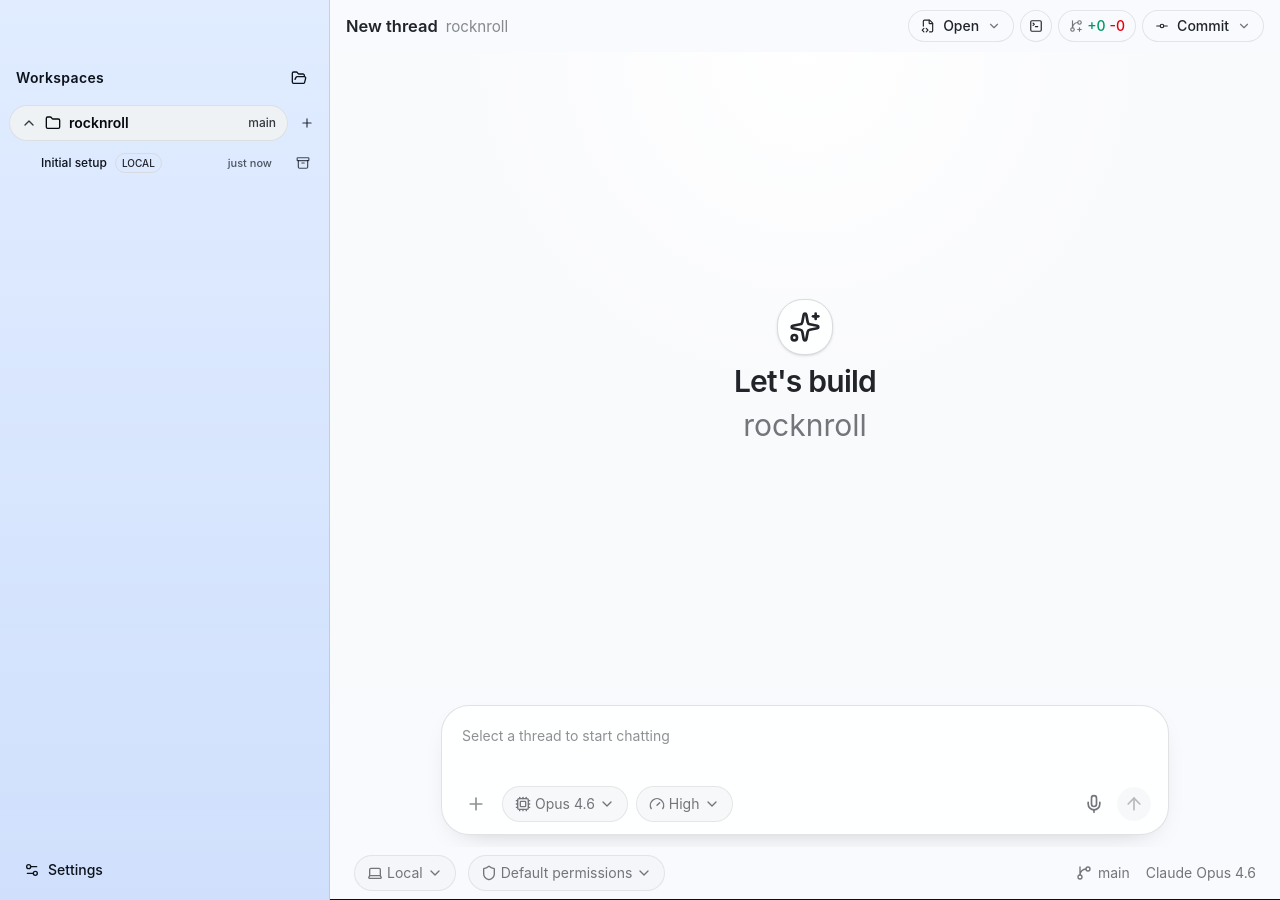
Test: app shell integration › archives a thread from the thread row
The width and height of the screenshot is (1280, 900).
Click the button named "Create thread in rocknroll" at (307, 123), box [293, 109, 321, 137]
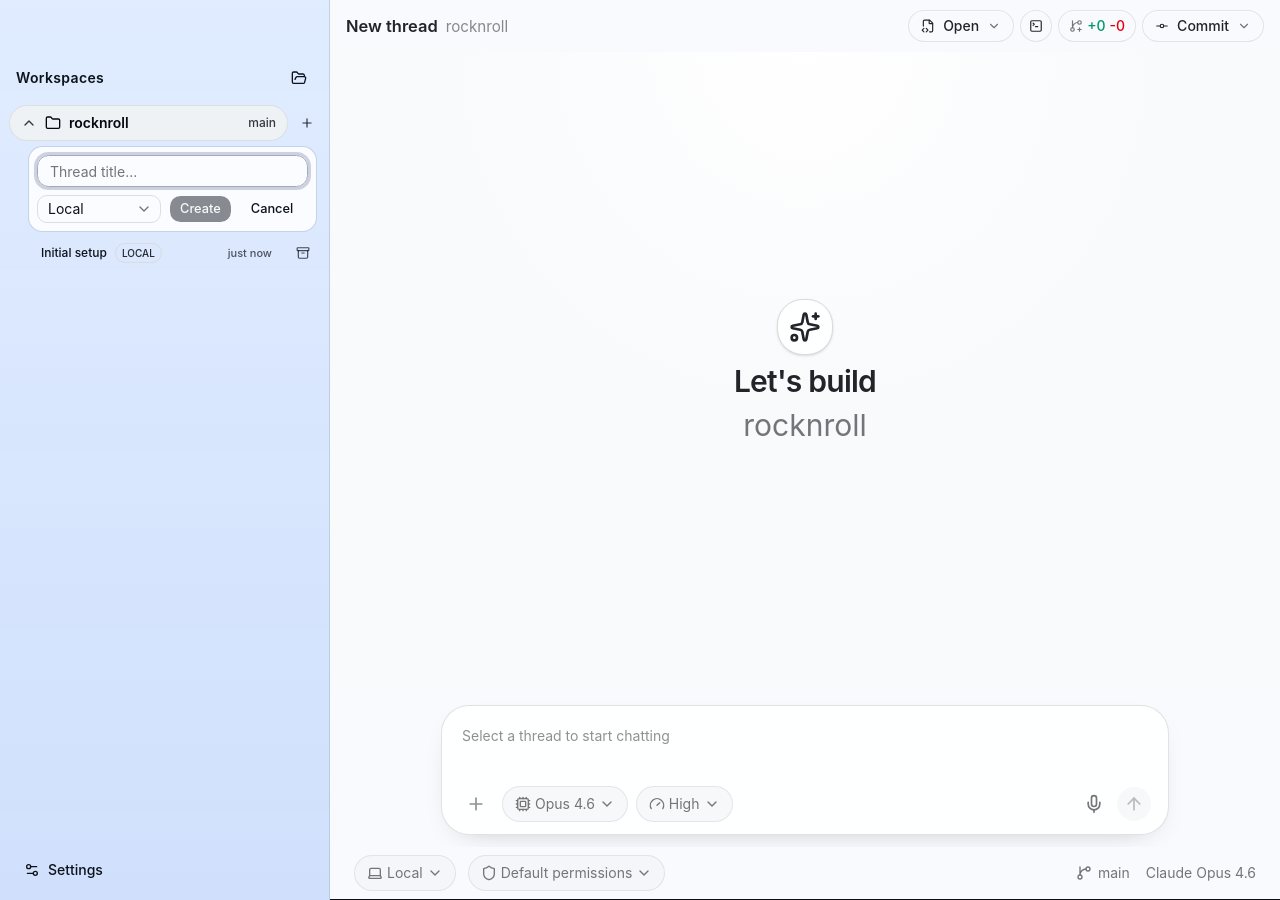
Type "Archive me" into the field with placeholder "Thread title..." at (172, 171), box [37, 155, 308, 187]
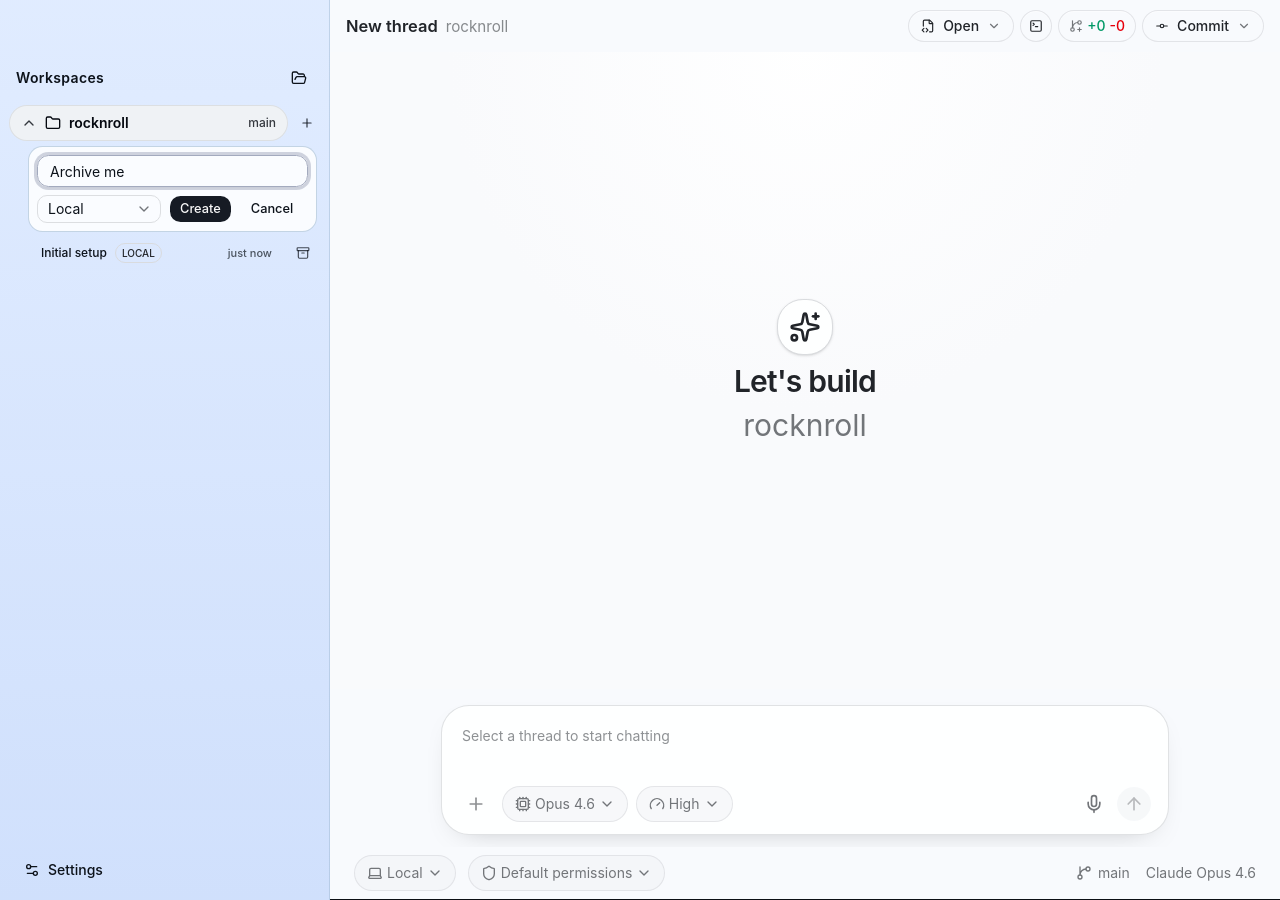
Press Enter
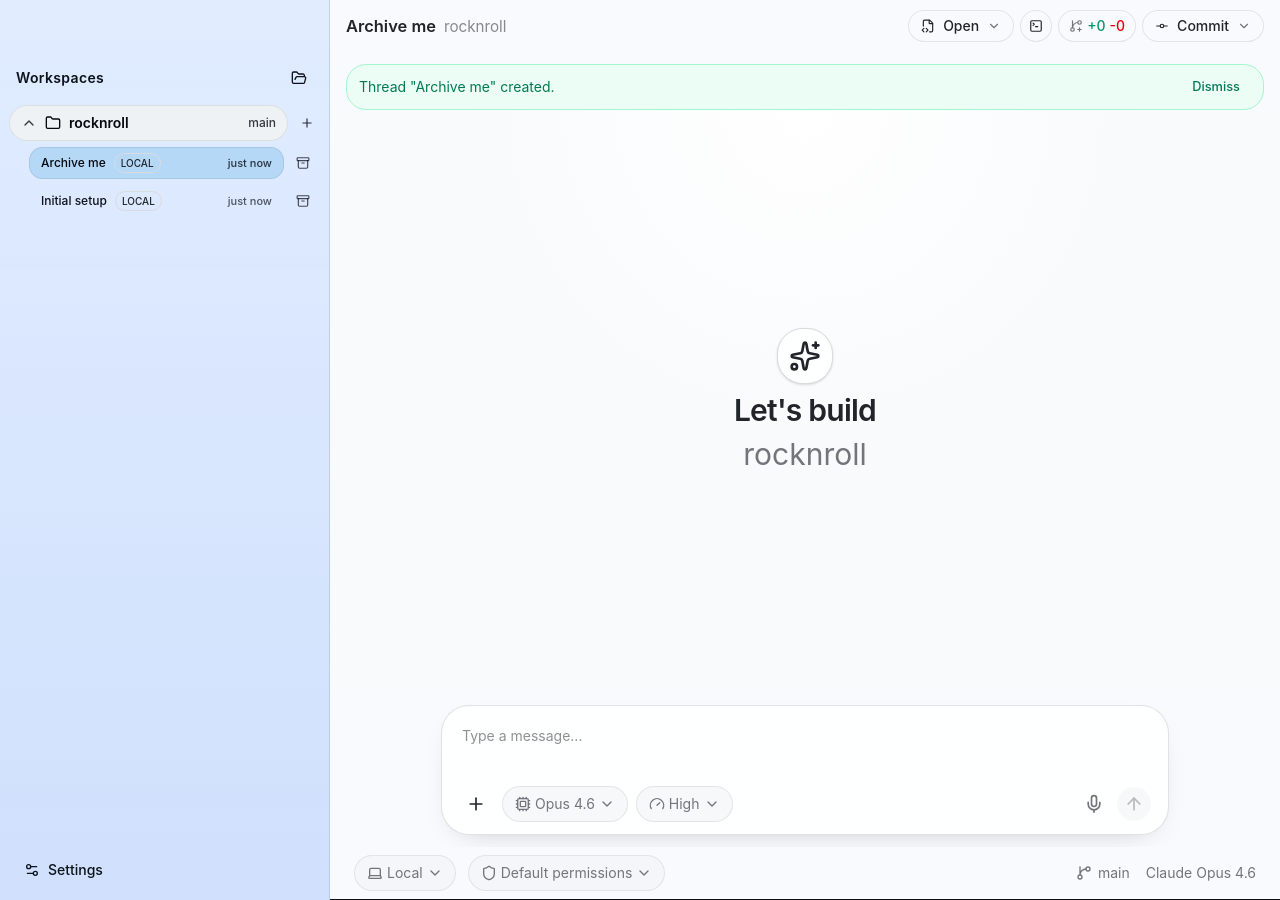
Expected: the message shows "Thread \"Archive me\" created", [359, 78, 555, 95]
Click the button named "Archive Archive me" at (303, 163), box [289, 149, 317, 177]
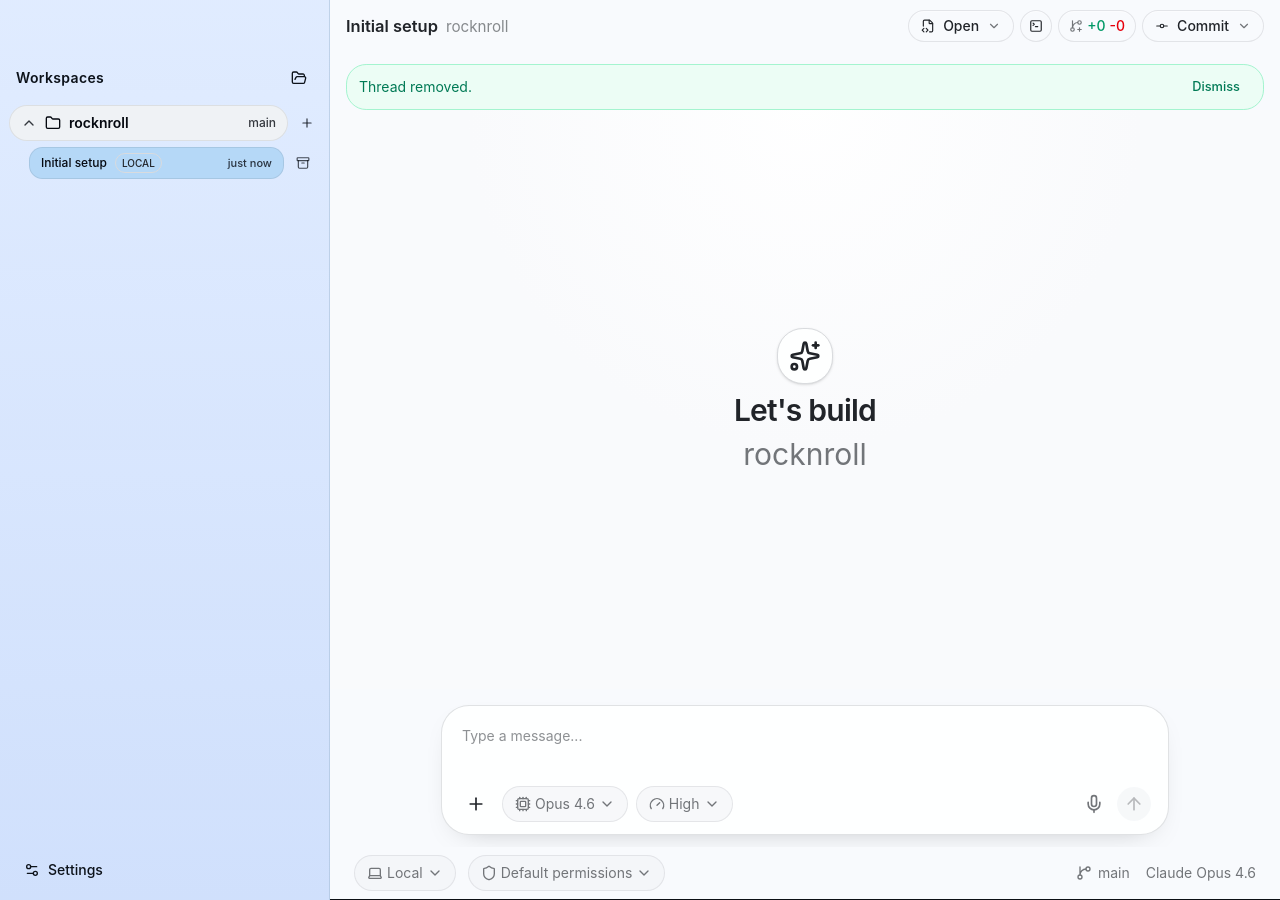
Expected: the message shows "Thread removed", [359, 78, 472, 95]
